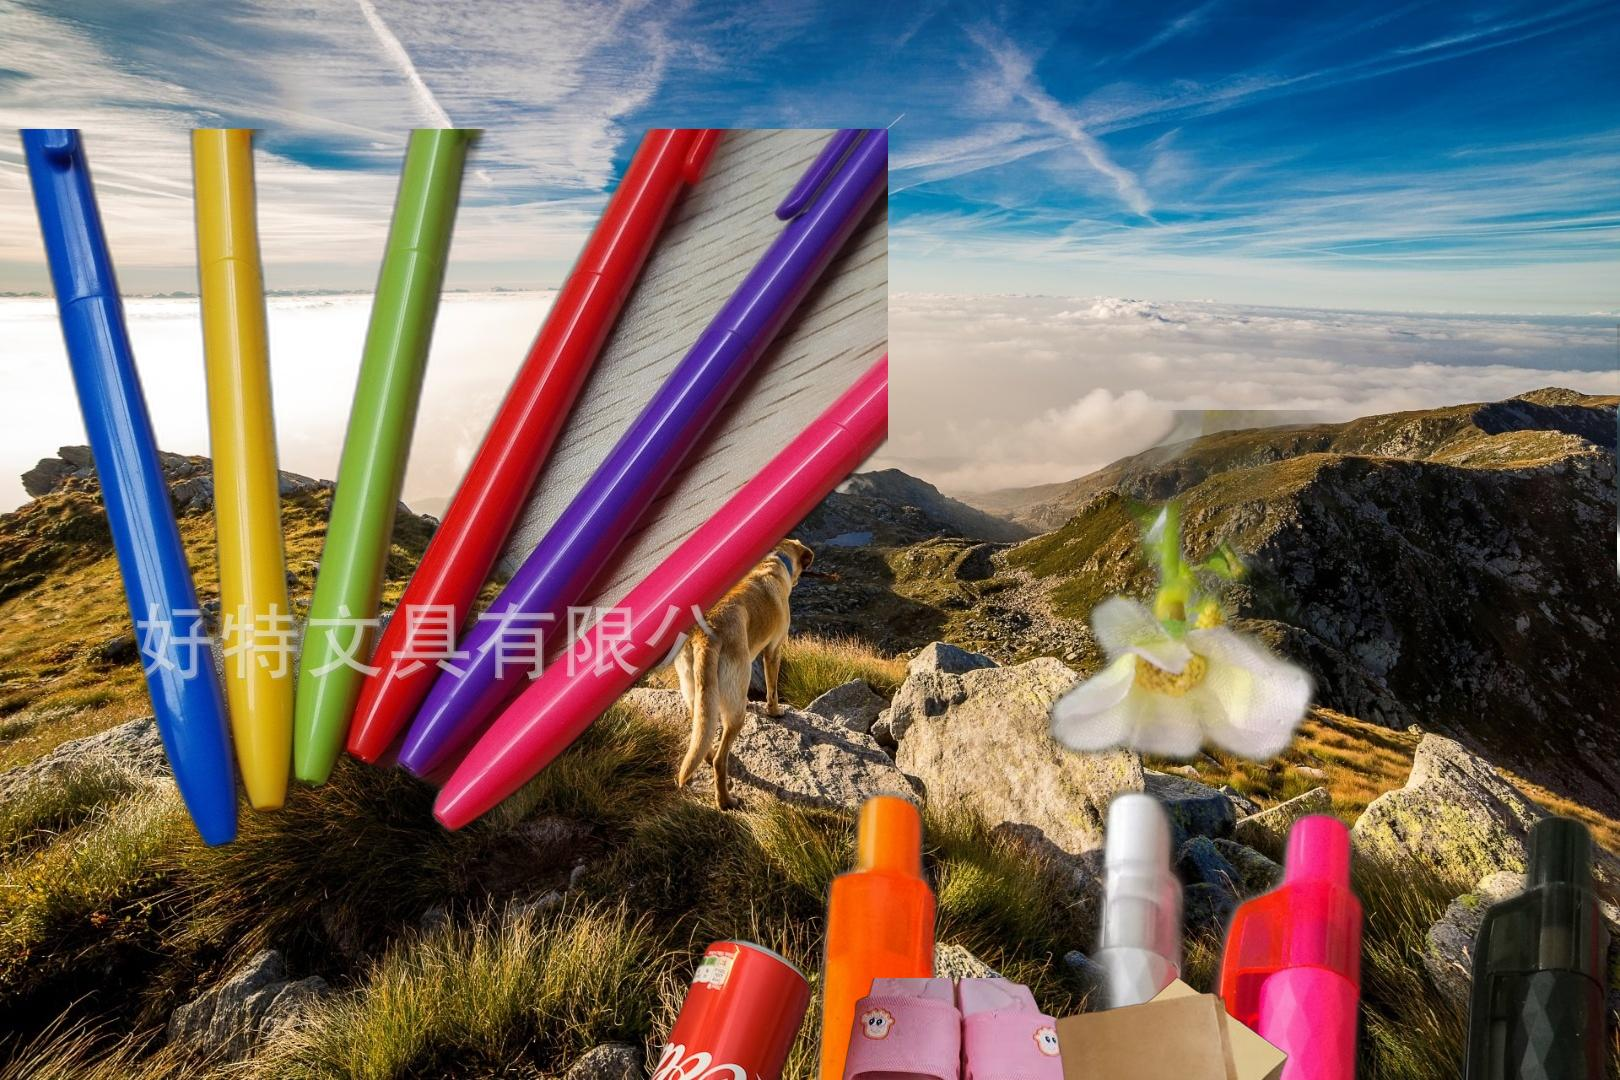metal-cans: (589, 933, 817, 1080)
paper: (1613, 491, 1620, 874), (1618, 324, 1620, 687)
paper-bag: (1038, 974, 1291, 1080)
penholder: (10, 129, 888, 857), (765, 410, 1620, 1080)
shoes: (841, 978, 1125, 1080)
